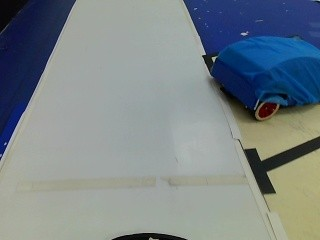car: (210, 32, 318, 120)
